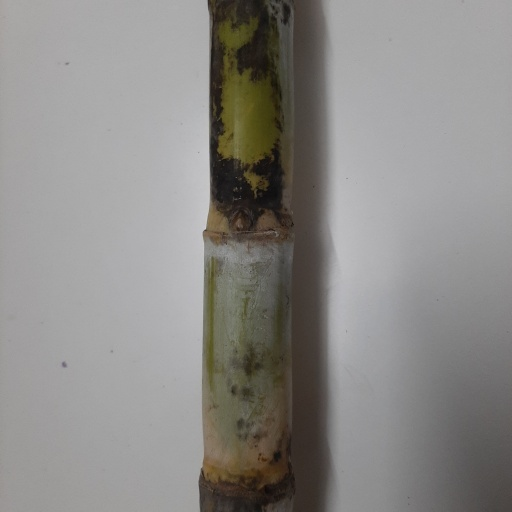Bud: (232, 210, 253, 232)
